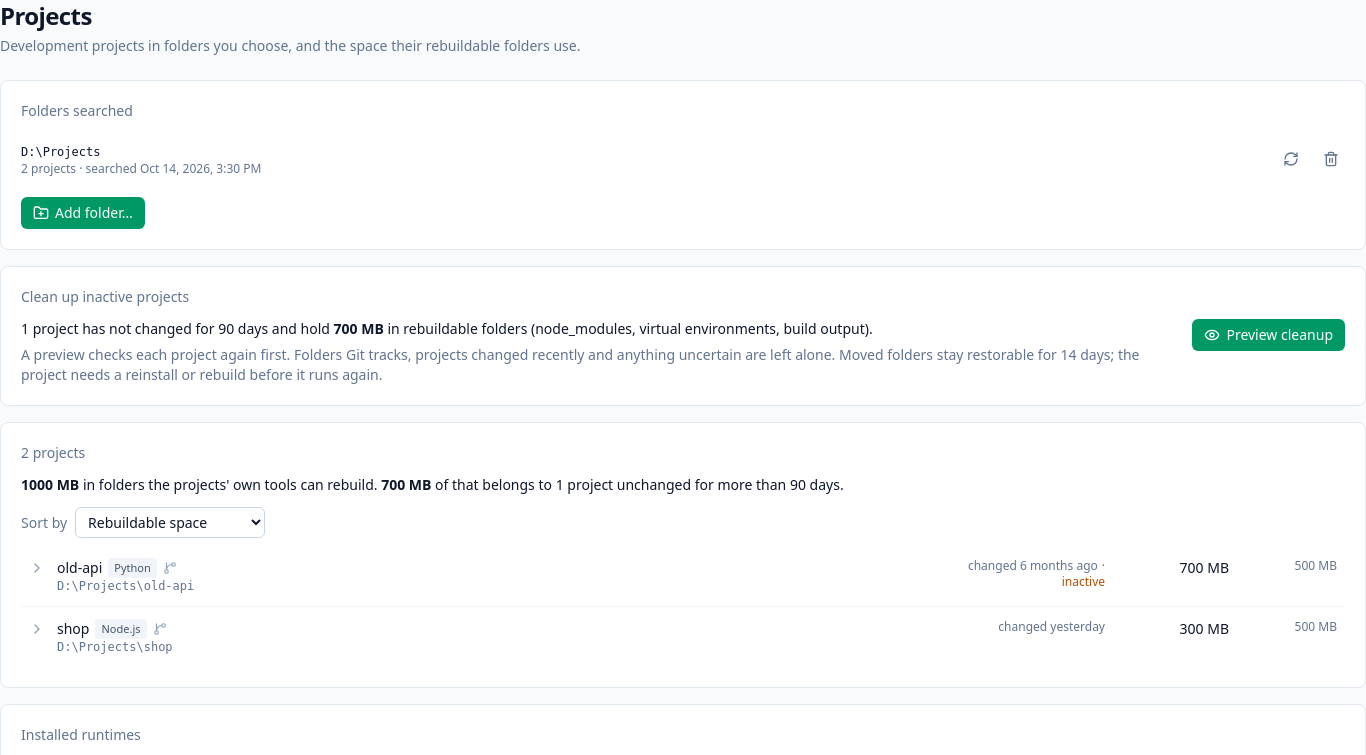
Scenario: Projects page › shows package managers, runtimes, artifacts and warnings when expanded
Step 1. Click the button "shop" → coordinates (73, 628), box [21,615,1345,659]
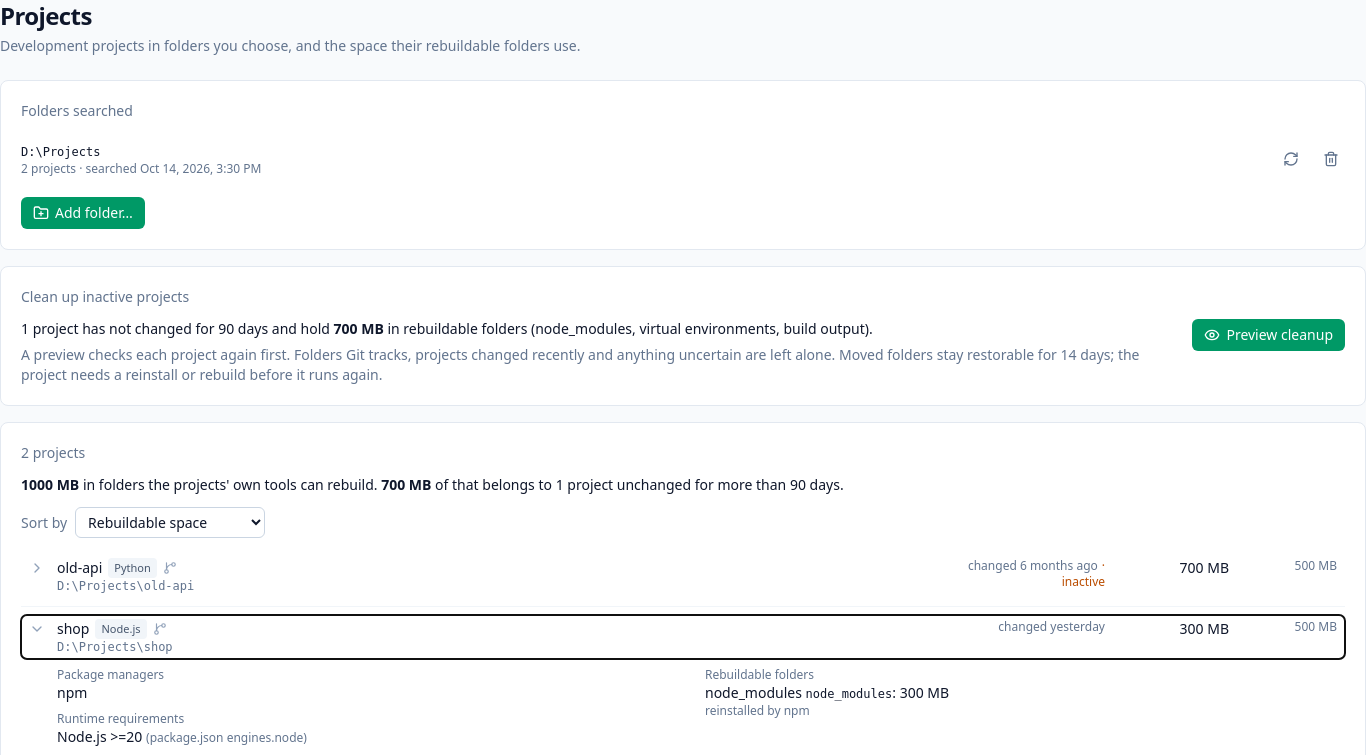
Result: the list item "Node.js >=20 (package.json engines.node)" is shown at [57,727,307,746]
Result: the text "(package.json engines.node)" is shown at [146,729,307,746]
Result: the text "reinstalled by npm" is shown at [705,702,810,719]
Step 2. Click the button "old-api" → coordinates (80, 568), box [21,554,1345,598]
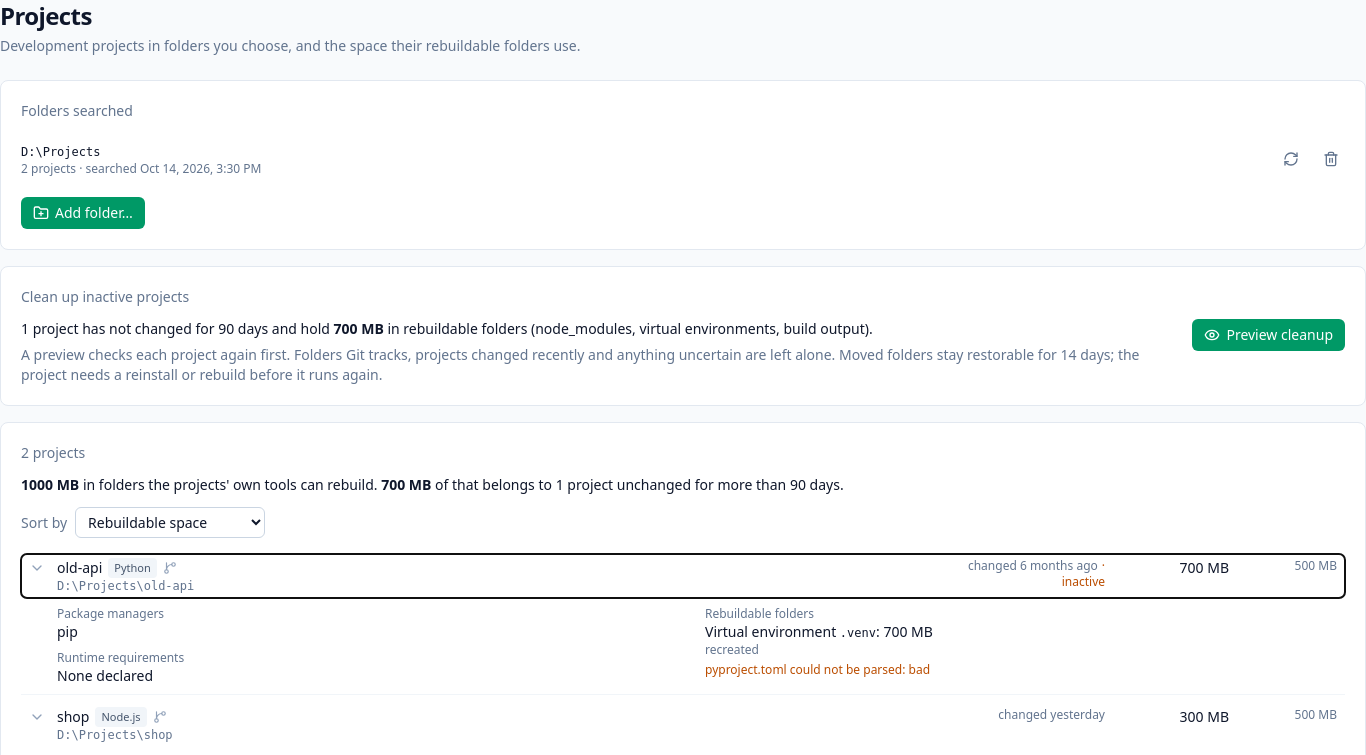
Result: the text "pyproject.toml could not be parsed: bad" is shown at [705,661,930,678]
